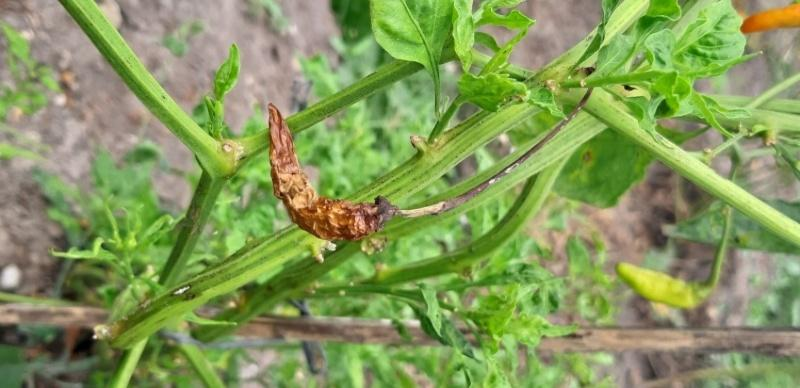antraknosa: (264, 102, 397, 242)
cabai_normal: (615, 259, 696, 309), (738, 1, 800, 35)
